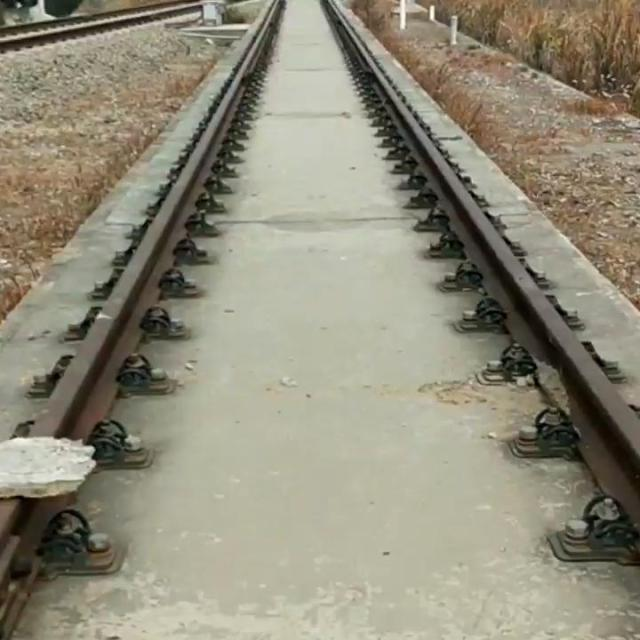rail: (323, 0, 640, 526), (31, 0, 281, 439)
